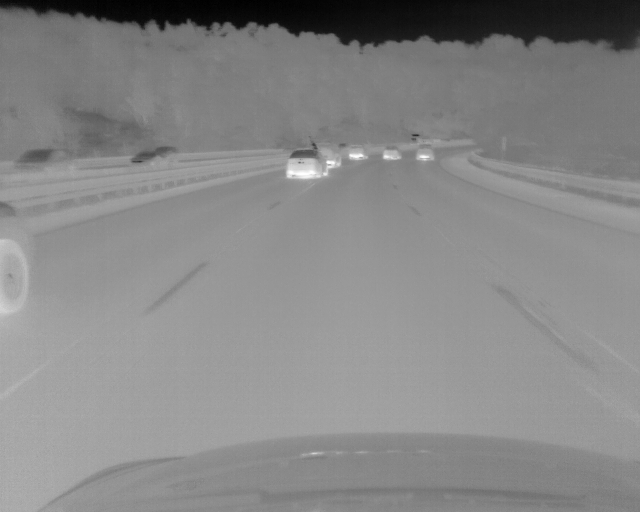car: (1, 198, 31, 316), (286, 147, 329, 179), (308, 132, 342, 168), (14, 146, 77, 164), (128, 146, 181, 165), (415, 142, 434, 161), (348, 142, 368, 160), (383, 145, 401, 158)
